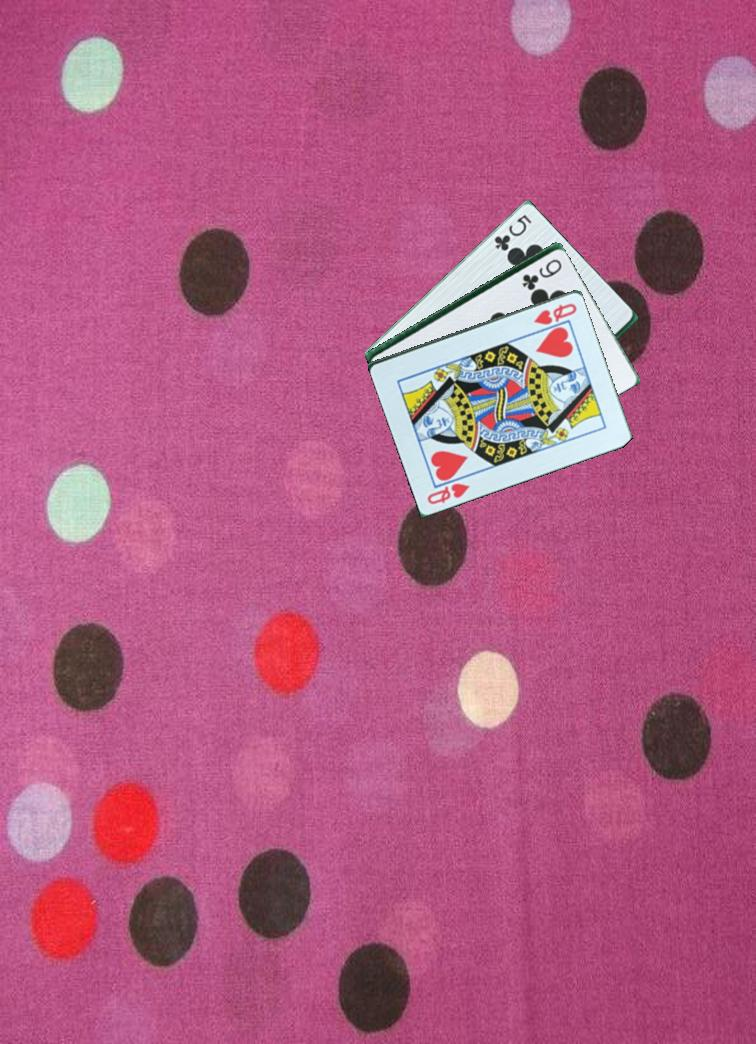5c: (487, 210, 534, 254)
9c: (519, 255, 565, 290)
qh: (530, 299, 580, 327), (424, 479, 473, 507)
